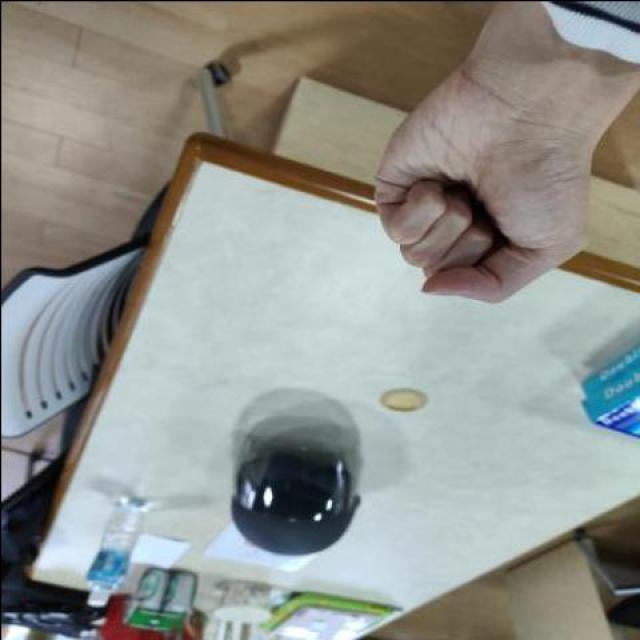Closed Hand: (351, 56, 613, 308)
